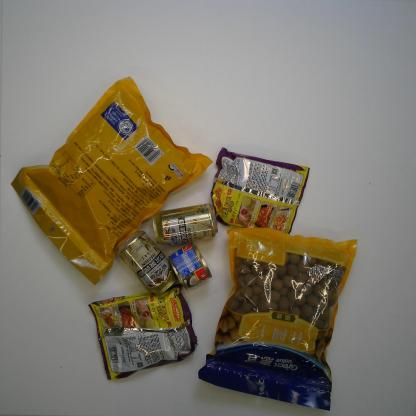Alcohol: (111, 225, 183, 302), (146, 201, 222, 251)
Canned Food: (164, 244, 213, 292)
Dried Food: (8, 70, 220, 283), (196, 228, 363, 412)
Instant Noodles: (86, 286, 200, 384), (204, 146, 315, 240)
